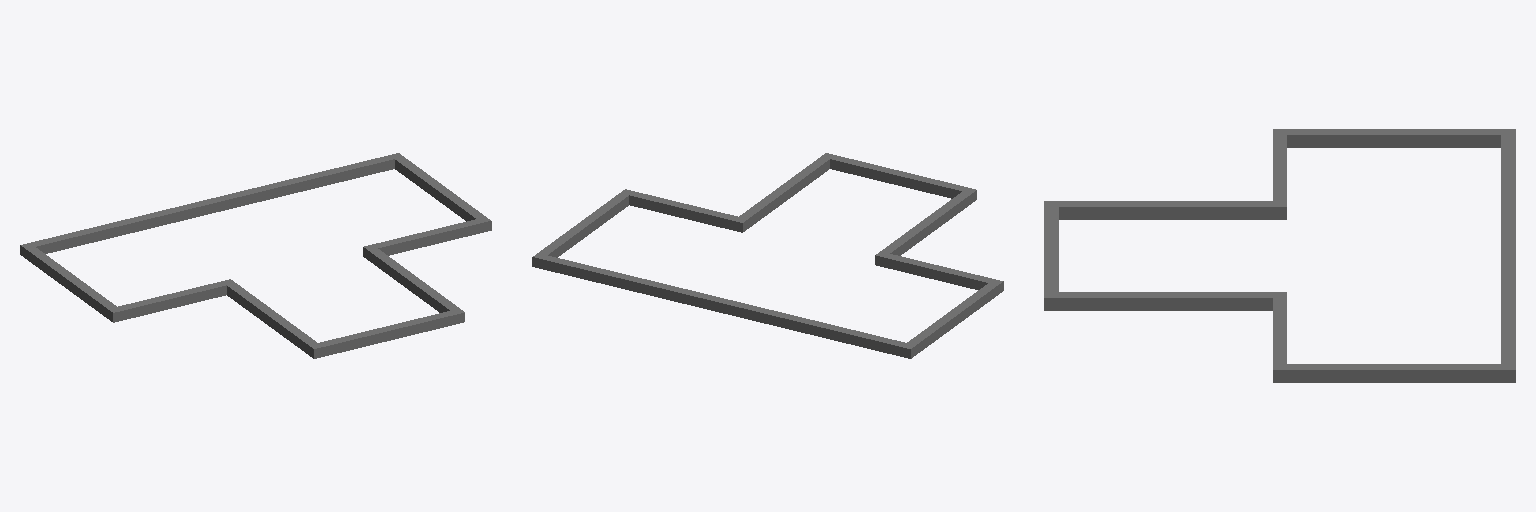
The robot description file, URDF, robot "plane":
<?xml version="0.0" ?>
<robot name="plane">
  <link name="planeLink">
  <contact>
      <lateral_friction value="1"/>
  </contact>
    <inertial>
      <origin rpy="0 0 0" xyz="0 0 0"/>
       <mass value=".0"/>
       <inertia ixx="0" ixy="0" ixz="0" iyy="0" iyz="0" izz="0"/>
    </inertial>
    <visual>
      <origin rpy="0 0 0" xyz="0 0 0"/>
      <geometry>
				<mesh filename="plane100.obj" scale="1 1 1"/>
      </geometry>
       <material name="white">
        <color rgba="1 1 1 1"/>
      </material>
    </visual>
    <collision>
      <origin rpy="0 0 0" xyz="0 0 -5"/>
      <geometry>
	 	<box size="200 200 10"/>
      </geometry>
    </collision>
  </link>

  <joint name="wall_1_joint" type="fixed">
    <origin rpy="0 0 0" xyz="0 0 0.05"/>
    <parent link="planeLink"/>
    <child link="wall_1"/>
  </joint>

  <link name="wall_1">
  	<visual>
      <origin rpy="0 0 0" xyz="0 8 0"/>
      <geometry>
	 	<box size="20 0.5 0.5"/>
      </geometry>
      <material name="grey">
	    <color rgba="0.5 0.5 0.5 0.8"/>
	  </material>
    </visual>
    <collision>
      <origin rpy="0 0 0" xyz="0 8 0"/>
      <geometry>
	 	<box size="20 0.5 0.5"/>
      </geometry>
    </collision>
  </link>

  <joint name="wall_2_joint" type="fixed">
    <origin rpy="0 0 0" xyz="0 0 0.05"/>
    <parent link="planeLink"/>
    <child link="wall_2"/>
  </joint>

  <link name="wall_2">
  	<visual>
      <origin rpy="0 0 0" xyz="0 -8 0"/>
      <geometry>
	 	<box size="8 0.5 0.5"/>
      </geometry>
      <material name="grey">
	    <color rgba="0.5 0.5 0.5 0.8"/>
	  </material>
    </visual>
    <collision>
      <origin rpy="0 0 0" xyz="0 -8 0"/>
      <geometry>
	 	<box size="8 0.5 0.5"/>
      </geometry>
    </collision>
  </link>

  <joint name="wall_3_joint" type="fixed">
    <origin rpy="0 0 0" xyz="0 0 0.05"/>
    <parent link="planeLink"/>
    <child link="wall_3"/>
  </joint>

  <link name="wall_3">
  	<visual>
      <origin rpy="0 0 0" xyz="9.75 4 0"/>
      <geometry>
	 	<box size="0.5 7.5 0.5"/>
      </geometry>
      <material name="grey">
	    <color rgba="0.5 0.5 0.5 0.8"/>
	  </material>
    </visual>
    <collision>
      <origin rpy="0 0 0" xyz="9.75 4 0"/>
      <geometry>
	 	<box size="0.5 7.5 0.5"/>
      </geometry>
    </collision>
  </link>

  <joint name="wall_4_joint" type="fixed">
    <origin rpy="0 0 0" xyz="0 0 0.05"/>
    <parent link="planeLink"/>
    <child link="wall_4"/>
  </joint>

  <link name="wall_4">
  	<visual>
      <origin rpy="0 0 0" xyz="-9.75 4 0"/>
      <geometry>
	 	<box size="0.5 7.5 0.5"/>
      </geometry>
      <material name="grey">
	    <color rgba="0.5 0.5 0.5 0.8"/>
	  </material>
    </visual>
    <collision>
      <origin rpy="0 0 0" xyz="-9.75 4 0"/>
      <geometry>
	 	<box size="0.5 7.5 0.5"/>
      </geometry>
    </collision>
  </link>

  <joint name="cross_wall_1_joint" type="fixed">
    <origin rpy="0 0 0" xyz="0 0 0.05"/>
    <parent link="planeLink"/>
    <child link="cross_wall_1"/>
  </joint>

  <link name="cross_wall_1">
  	<visual>
      <origin rpy="0 0 0" xyz="-7 0 0"/>
      <geometry>
	 	<box size="6 0.5 0.5"/>
      </geometry>
      <material name="grey">
	    <color rgba="0.5 0.5 0.5 0.8"/>
	  </material>
    </visual>
    <collision>
      <origin rpy="0 0 0" xyz="-7 0 0"/>
      <geometry>
	 	<box size="6 0.5 0.5"/>
      </geometry>
    </collision>
  </link>

  <joint name="cross_wall_2_joint" type="fixed">
    <origin rpy="0 0 0" xyz="0 0 0.05"/>
    <parent link="planeLink"/>
    <child link="cross_wall_2"/>
  </joint>

  <link name="cross_wall_2">
  	<visual>
      <origin rpy="0 0 0" xyz="7 0 0"/>
      <geometry>
	 	<box size="6 0.5 0.5"/>
      </geometry>
      <material name="grey">
	    <color rgba="0.5 0.5 0.5 0.8"/>
	  </material>
    </visual>
    <collision>
      <origin rpy="0 0 0" xyz="7 0 0"/>
      <geometry>
	 	<box size="6 0.5 0.5"/>
      </geometry>
    </collision>
  </link>

  <joint name="corner_wall_2_joint" type="fixed">
    <origin rpy="0 0 0" xyz="0 0 0.05"/>
    <parent link="planeLink"/>
    <child link="corner_wall_2"/>
  </joint>

  <link name="corner_wall_2">
    <visual>
      <origin rpy="0 0 0" xyz="3.75 -3.75 0"/>
      <geometry>
    <box size="0.5 8 0.5"/>
      </geometry>
      <material name="grey">
      <color rgba="0.5 0.5 0.5 0.8"/>
    </material>
    </visual>
    <collision>
      <origin rpy="0 0 0" xyz="3.75 -3.75 0"/>
      <geometry>
    <box size="0.5 8 0.5"/>
      </geometry>
    </collision>
  </link>

  <joint name="corner_wall_3_joint" type="fixed">
    <origin rpy="0 0 0" xyz="0 0 0.05"/>
    <parent link="planeLink"/>
    <child link="corner_wall_3"/>
  </joint>

  <link name="corner_wall_3">
    <visual>
      <origin rpy="0 0 0" xyz="-3.75 -3.75 0"/>
      <geometry>
    <box size="0.5 8 0.5"/>
      </geometry>
      <material name="grey">
      <color rgba="0.5 0.5 0.5 0.8"/>
    </material>
    </visual>
    <collision>
      <origin rpy="0 0 0" xyz="-3.75 -3.75 0"/>
      <geometry>
    <box size="0.5 8 0.5"/>
      </geometry>
    </collision>
  </link>

</robot>

--- Render facts (derived) ---
The picture shows the robot from 3 angles, left to right: view 1: azimuth 30°, elevation 25°; view 2: azimuth 150°, elevation 25°; view 3: azimuth 270°, elevation 25°; orthographic projection.
Robot: plane — 9 links, 8 joints (8 fixed); root link planeLink; default pose: all joints at 0.
Links seen in each view (by area): view 1: wall_1, wall_2, cross_wall_1, cross_wall_2, corner_wall_2, corner_wall_3, wall_4, wall_3; view 2: wall_1, wall_2, corner_wall_2, corner_wall_3, cross_wall_1, cross_wall_2, wall_4, wall_3; view 3: corner_wall_3, corner_wall_2, wall_3, wall_4, wall_1, wall_2, cross_wall_2, cross_wall_1.
Boxes of the visible links, left/top/right/bottom form: wall_1: left=20, top=153, right=403, bottom=258; wall_2: left=309, top=308, right=464, bottom=358; cross_wall_1: left=108, top=282, right=226, bottom=322; cross_wall_2: left=373, top=217, right=491, bottom=255; corner_wall_2: left=363, top=244, right=458, bottom=312; corner_wall_3: left=221, top=279, right=316, bottom=354; wall_4: left=26, top=247, right=116, bottom=318; wall_3: left=395, top=157, right=485, bottom=221; wall_1: left=532, top=253, right=915, bottom=358; wall_2: left=821, top=153, right=976, bottom=202; corner_wall_2: left=733, top=157, right=829, bottom=232; corner_wall_3: left=875, top=191, right=971, bottom=267; cross_wall_1: left=885, top=254, right=1003, bottom=294; cross_wall_2: left=621, top=189, right=737, bottom=229; wall_4: left=907, top=283, right=997, bottom=354; wall_3: left=539, top=193, right=628, bottom=257; corner_wall_3: left=1059, top=201, right=1286, bottom=219; corner_wall_2: left=1059, top=292, right=1286, bottom=310; wall_3: left=1287, top=364, right=1500, bottom=382; wall_4: left=1287, top=129, right=1500, bottom=147; wall_1: left=1501, top=129, right=1515, bottom=382; wall_2: left=1044, top=201, right=1058, bottom=310; cross_wall_2: left=1273, top=298, right=1286, bottom=382; cross_wall_1: left=1273, top=129, right=1286, bottom=200.
Bounding box of the posed robot: 20 × 16.5 × 0.5 m (x, y, z).
0 mesh visuals loaded from 1 distinct referenced files (none loaded); not drawn: 1 (reference not matched to a file when rendering).